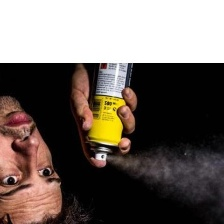aerosol_cans: (81, 26, 140, 166)
